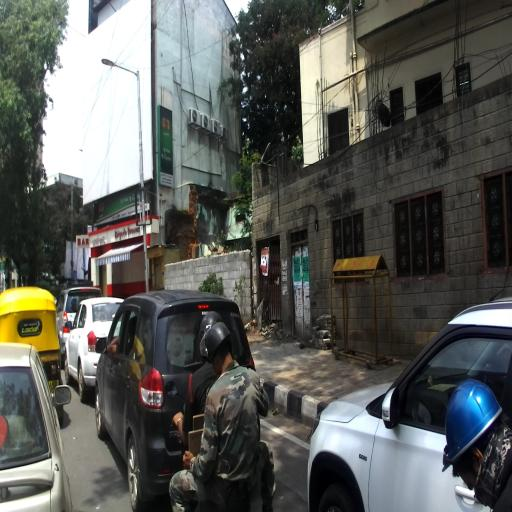street_light_0: (100, 57, 140, 80)
